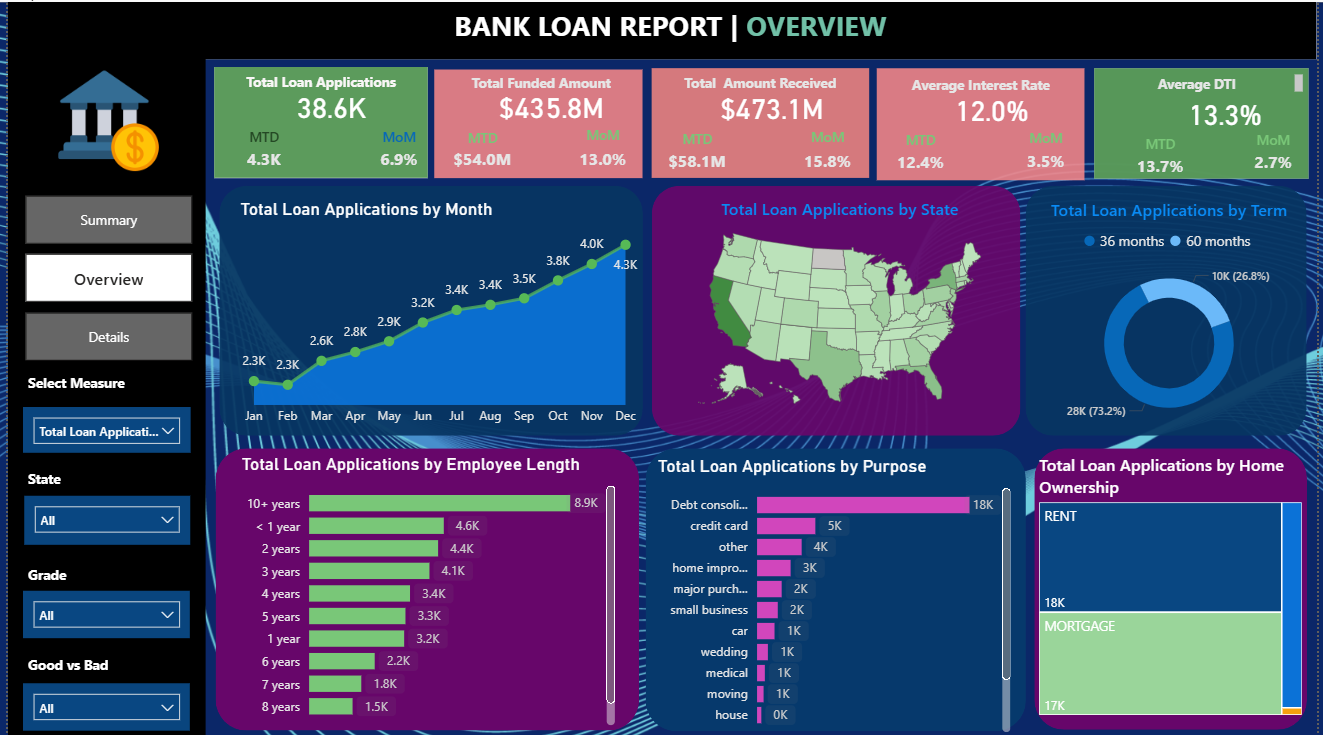

What the dashboard file says about the page in this screenshot:
{"tool":"powerbi","page":{"name":"Overview","canvas":[1280,720],"ordinal":1},"visuals":[{"type":"shape","box":[206.7,179.8,414.5,244.6],"z":0},{"type":"shape","box":[0,0,1279.7,56],"z":1000},{"type":"shape","box":[0,43.3,193.3,676.7],"z":2000},{"type":"shape","box":[201.2,63.8,208.8,108.4],"z":2000,"group":"g1"},{"type":"shape","box":[630,65,212.5,107.5],"z":2000,"group":"g3"},{"type":"shape","box":[850,65,203.3,109.6],"z":2000,"group":"g4"},{"type":"shape","box":[1062.8,65,209.6,108],"z":2000,"group":"g5"},{"type":"shape","box":[417.5,65.6,203.8,106.3],"z":2000,"group":"g2"},{"type":"textbox","box":[193.3,0,897.4,54.8],"z":3000},{"type":"group","id":"g1","title":"Group 1","box":[201.2,63.8,207.5,108.8],"z":4000},{"type":"card","fields":{"Values":["financial_loan.Total Loan Amount"]},"box":[222.3,82.4,188.5,39.9],"z":4000,"group":"g1"},{"type":"card","fields":{"Values":["financial_loan.Total Funded Amount"]},"box":[444.3,83.1,175.8,38.9],"z":4000,"group":"g2"},{"type":"card","fields":{"Values":["financial_loan.Total Amount Received"]},"box":[651.4,83.8,191.6,39.4],"z":4000,"group":"g3"},{"type":"card","fields":{"Values":["financial_loan.Avg Interest Rate"]},"box":[870.6,85.6,183.9,38.9],"z":4000,"group":"g4"},{"type":"card","fields":{"Values":["financial_loan.Avg DTI"]},"box":[1107.3,91.6,165.9,35.7],"z":4000,"group":"g5"},{"type":"textbox","box":[201.2,63.8,208.8,35],"z":5000,"group":"g1"},{"type":"group","id":"g2","title":"Group 1","box":[417.5,65,203.8,107.5],"z":5000},{"type":"textbox","box":[424.6,65,194.8,34.2],"z":5000,"group":"g2"},{"type":"textbox","box":[630,65.5,212.2,34.6],"z":5000,"group":"g3"},{"type":"textbox","box":[1062.5,66.5,208.8,27.2],"z":5000,"group":"g5"},{"type":"textbox","box":[850,67.5,203.7,34.2],"z":5000,"group":"g4"},{"type":"group","id":"g3","title":"Group 1","box":[630,65,213.8,108.8],"z":6000},{"type":"card","title":"MTD","fields":{"Values":["financial_loan.MTD Loan Applications"]},"box":[222.5,122.2,56.1,50],"z":6000,"group":"g1"},{"type":"card","title":"MTD","fields":{"Values":["financial_loan.MTD Funded Amount"]},"box":[426.4,124.2,77.6,46.9],"z":6000,"group":"g2"},{"type":"card","title":"MTD","fields":{"Values":["financial_loan.MTD Total Amount Received"]},"box":[632,125.5,84.5,47.5],"z":6000,"group":"g3"},{"type":"card","title":"MTD","fields":{"Values":["financial_loan.MTD Avg Int Rate"]},"box":[851.9,126.7,81.1,46.9],"z":6000,"group":"g4"},{"type":"card","title":"MTD","fields":{"Values":["financial_loan.MTD Avg DTI"]},"box":[1090.5,129.4,73.2,43.1],"z":6000,"group":"g5"},{"type":"group","id":"g4","title":"Group 1","box":[850,65,205,110],"z":7000},{"type":"card","title":"MoM","fields":{"Values":["financial_loan.MoM Funded Amount"]},"box":[544.9,121,75.8,51.5],"z":7000,"group":"g2"},{"type":"card","title":"MoM","fields":{"Values":["financial_loan.MoM Loan Applications"]},"box":[354,122.2,56.1,50],"z":7000,"group":"g1"},{"type":"card","title":"MoM","fields":{"Values":["financial_loan.MoM Total Amount Received"]},"box":[761,122.2,82.5,52.3],"z":7000,"group":"g3"},{"type":"card","title":"MoM","fields":{"Values":["financial_loan.MoM Avg Int Rate"]},"box":[975.8,123.5,79.2,51.5],"z":7000,"group":"g4"},{"type":"card","title":"MoM","fields":{"Values":["financial_loan.MoM Avg DTI"]},"box":[1202.3,126.4,71.5,47.3],"z":7000,"group":"g5"},{"type":"group","id":"g5","title":"Group 1","box":[1062.5,65,211.2,108.8],"z":8000},{"type":"slicer","fields":{"Values":["financial_loan.address_state"]},"box":[22,503.8,157.7,47.7],"z":9000},{"type":"areaChart","fields":{"Y":["financial_loan.Total Loan Applications"],"Category":["Date Table.Month"]},"box":[222.9,191.4,400,231.4],"z":10000},{"type":"textbox","box":[22,473.2,78.3,30.6],"z":11000},{"type":"shape","box":[629.8,179.8,360.7,244.6],"z":12000},{"type":"slicer","fields":{"Values":["financial_loan.grade"]},"box":[22,582.1,160.2,46.5],"z":13000},{"type":"shapeMap","fields":{"Value":["financial_loan.Total Loan Applications"],"Category":["financial_loan.address_state"]},"box":[634.7,190.8,358.3,216.4],"z":14000},{"type":"textbox","box":[22,551.5,79.5,30.6],"z":15000},{"type":"shape","box":[995.4,179.8,275.1,244.6],"z":16000},{"type":"slicer","fields":{"Values":["financial_loan.Good vs Bad Loan"]},"box":[22,667.7,157.7,46.5],"z":17000},{"type":"donutChart","fields":{"Y":["financial_loan.Total Loan Applications"],"Category":["financial_loan.term"]},"box":[1004.2,191.9,264,232.3],"z":18000},{"type":"textbox","box":[22,637.1,110.1,30.6],"z":19000},{"type":"shape","box":[203,436.6,414.5,276.4],"z":20000},{"type":"slicer","fields":{"Values":["Select Measure.Select Measure"]},"box":[22,423.1,157.7,45.2],"z":21000},{"type":"barChart","fields":{"Y":["financial_loan.Total Loan Applications"],"Category":["financial_loan.emp_length"]},"box":[223.6,441.5,375.1,271.2],"z":22000},{"type":"textbox","box":[20.8,392.5,129.6,30.6],"z":23000},{"type":"shape","box":[623.3,437.2,372.2,277],"z":24000},{"type":"barChart","fields":{"Y":["financial_loan.Total Loan Applications"],"Category":["financial_loan.purpose"]},"box":[630.5,444.4,354.9,275.6],"z":25000},{"type":"shape","box":[1004.2,437.2,266.9,275.6],"z":26000},{"type":"treemap","fields":{"Values":["financial_loan.Total Loan Applications"],"Group":["financial_loan.home_ownership"]},"box":[1004.2,441.5,266.9,261.1],"z":27000},{"type":"pageNavigator","box":[16.7,190,163.3,163.3],"z":28000},{"type":"image","box":[43.3,55,110,120],"z":29000},{"type":"textbox","box":[72.1,76.5,46.2,28.9],"z":30000},{"type":"actionButton","box":[20.8,359.5,160.2,33],"z":31000}]}

Visuals, with their boxes in screenshot pixels (x1, y1, x2, y2), scaled from the page's 1280x720 canvas onto the 1323x735 screenshot:
shape: 214/184/642/433
shape: 0/0/1322/57
shape: 0/44/200/734
shape: 208/65/424/176
shape: 651/66/871/176
shape: 879/66/1089/178
shape: 1099/66/1315/177
shape: 432/67/642/175
textbox: 200/0/1127/56
"Group 1" group: 208/65/422/176
card - financial_loan.Total Loan Amount: 230/84/425/125
card - financial_loan.Total Funded Amount: 459/85/641/125
card - financial_loan.Total Amount Received: 673/86/871/126
card - financial_loan.Avg Interest Rate: 900/87/1090/127
card - financial_loan.Avg DTI: 1144/94/1316/130
textbox: 208/65/424/101
"Group 1" group: 432/66/642/176
textbox: 439/66/640/101
textbox: 651/67/870/102
textbox: 1098/68/1314/96
textbox: 879/69/1089/104
"Group 1" group: 651/66/872/177
"MTD" card: 230/125/288/176
"MTD" card: 441/127/521/175
"MTD" card: 653/128/741/177
"MTD" card: 881/129/964/177
"MTD" card: 1127/132/1203/176
"Group 1" group: 879/66/1090/179
"MoM" card: 563/124/642/176
"MoM" card: 366/125/424/176
"MoM" card: 787/125/872/178
"MoM" card: 1009/126/1090/179
"MoM" card: 1243/129/1317/177
"Group 1" group: 1098/66/1316/177
slicer - financial_loan.address_state: 23/514/186/563
areaChart - financial_loan.Total Loan Applications x Date Table.Month: 230/195/644/432
textbox: 23/483/104/514
shape: 651/184/1024/433
slicer - financial_loan.grade: 23/594/188/642
shapeMap - financial_loan.Total Loan Applications x financial_loan.address_state: 656/195/1026/416
textbox: 23/563/105/594
shape: 1029/184/1313/433
slicer - financial_loan.Good vs Bad Loan: 23/682/186/729
donutChart - financial_loan.Total Loan Applications x financial_loan.term: 1038/196/1311/433
textbox: 23/650/137/682
shape: 210/446/638/728
slicer - Select Measure.Select Measure: 23/432/186/478
barChart - financial_loan.Total Loan Applications x financial_loan.emp_length: 231/451/619/728
textbox: 21/401/155/432
shape: 644/446/1029/729
barChart - financial_loan.Total Loan Applications x financial_loan.purpose: 652/454/1019/734
shape: 1038/446/1314/728
treemap - financial_loan.Total Loan Applications x financial_loan.home_ownership: 1038/451/1314/717
pageNavigator: 17/194/186/361
image: 45/56/158/179
textbox: 75/78/122/108
actionButton: 21/367/187/401
